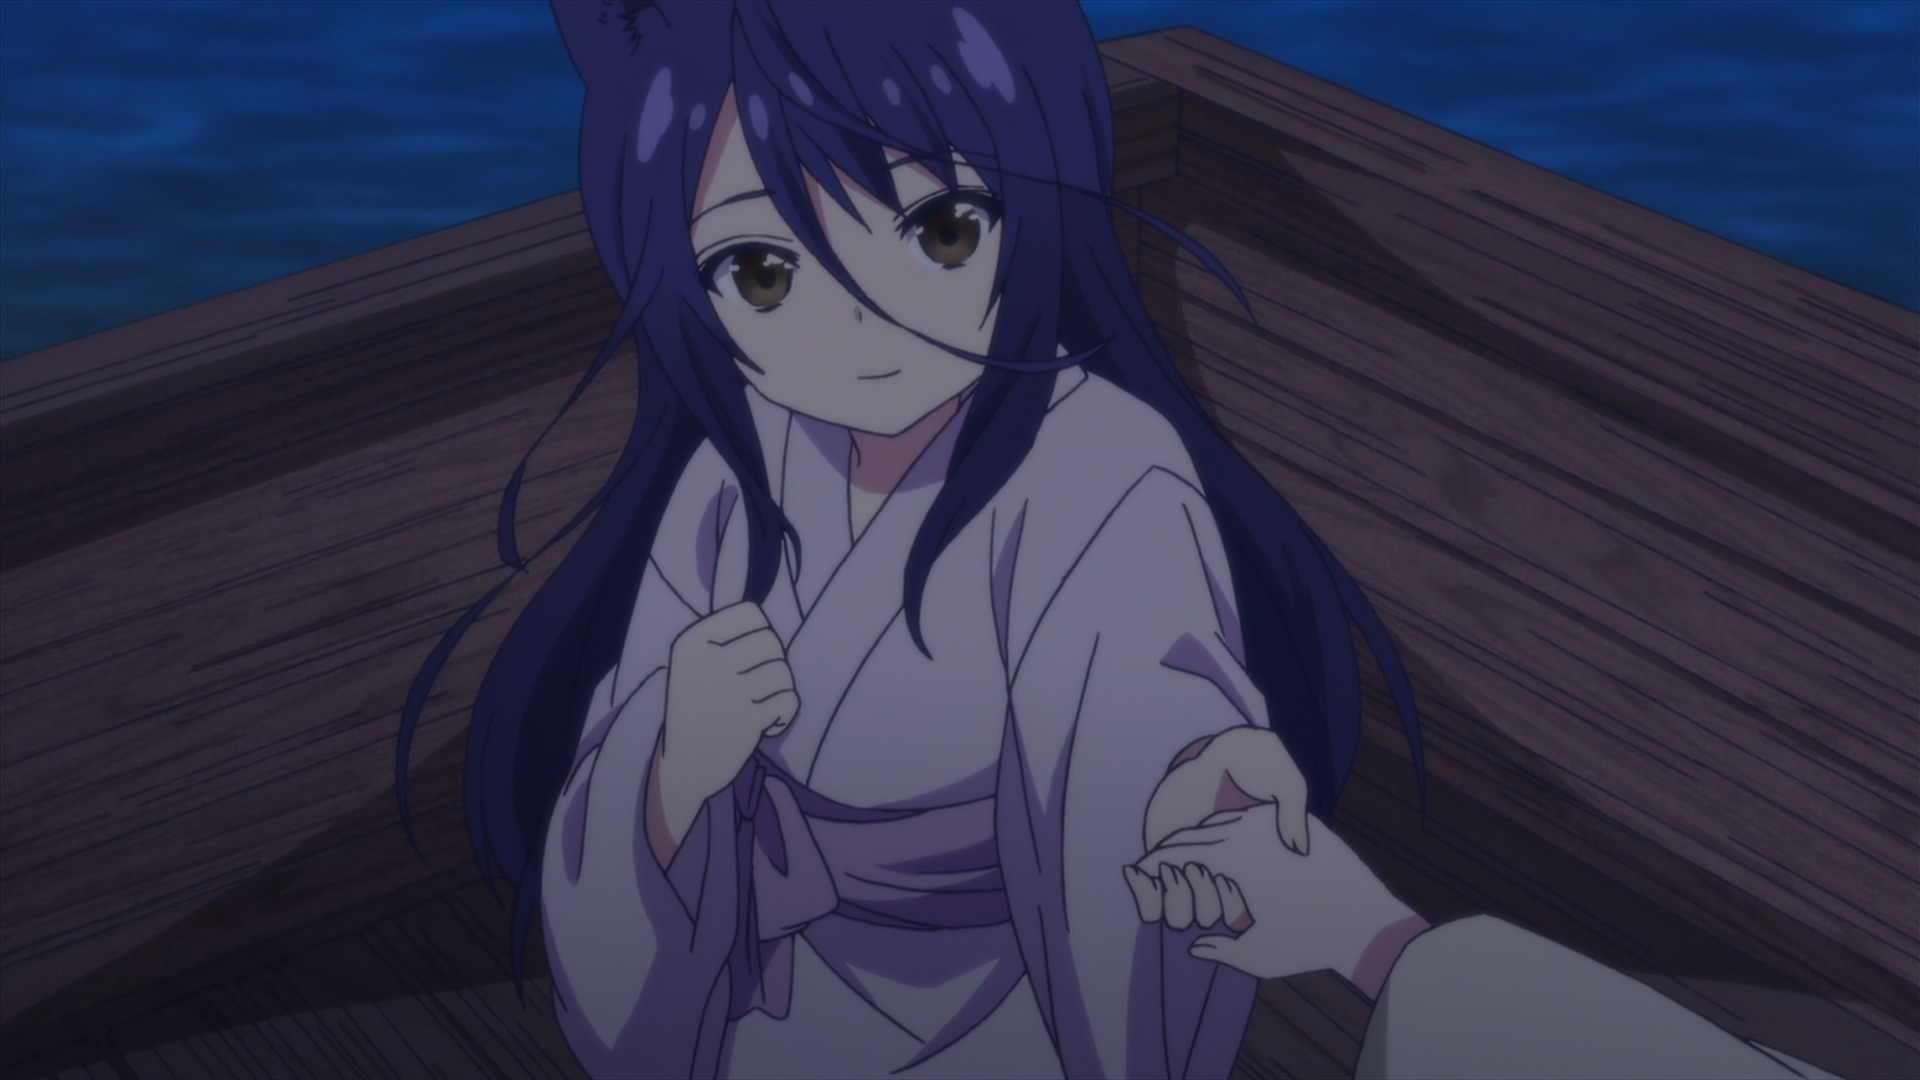皋: (394, 1, 1429, 1080)
